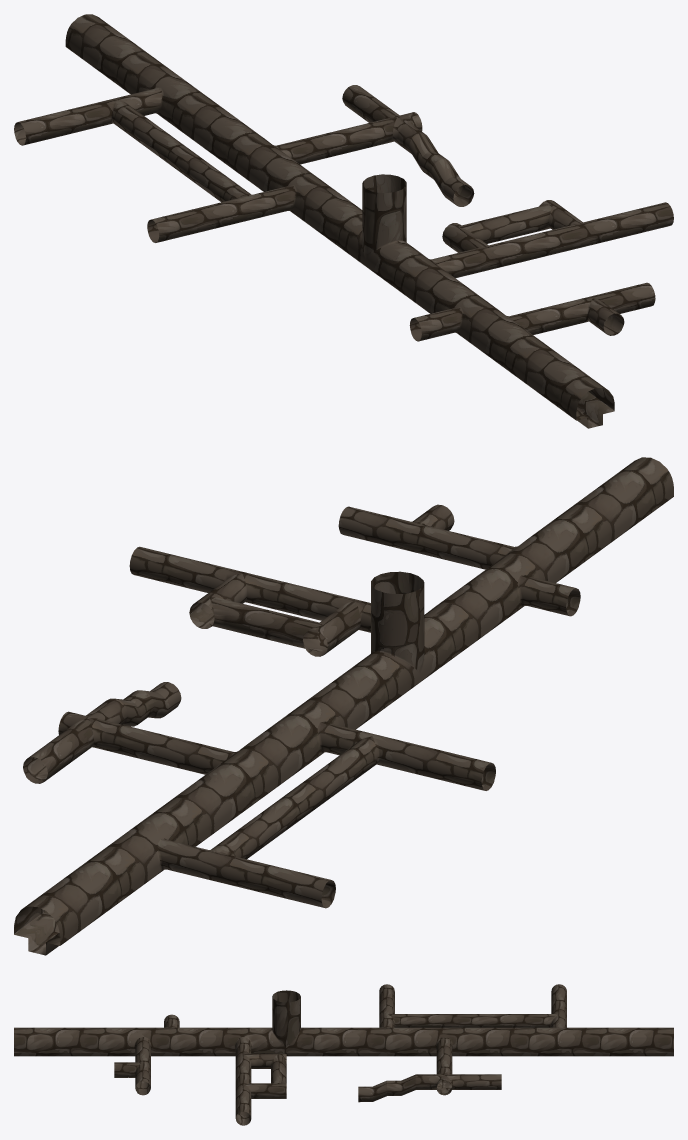
Rendered from Full.fbx.
3 renders of one model, top to bottom at view 1: azimuth 30°, elevation 25°; view 2: azimuth 150°, elevation 25°; view 3: azimuth 270°, elevation 25°, orthographic. The views are drawn at different scales.
Visible parts, largest first — view 1: polySurface210; view 2: polySurface210; view 3: polySurface210.
Part boxes in pixels (bbox=[...]): polySurface210: bbox=[14, 14, 673, 428]; polySurface210: bbox=[14, 457, 673, 955]; polySurface210: bbox=[14, 984, 673, 1125].
Size of the model in its own units: 21 by 4.81 by 46.
